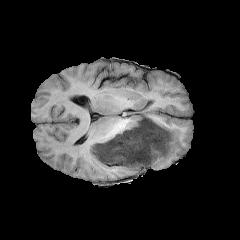glioma: (89, 113, 180, 167)
